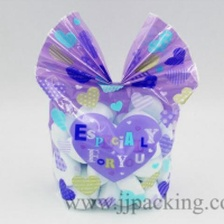snack: (27, 6, 204, 216)
